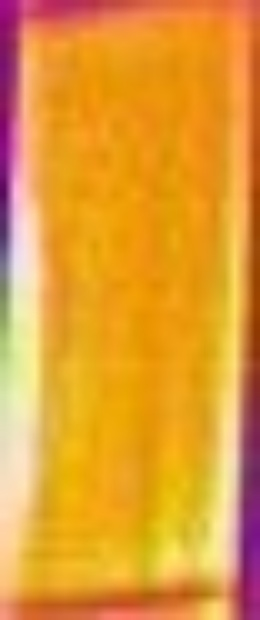Diode: (1, 167, 51, 533)
